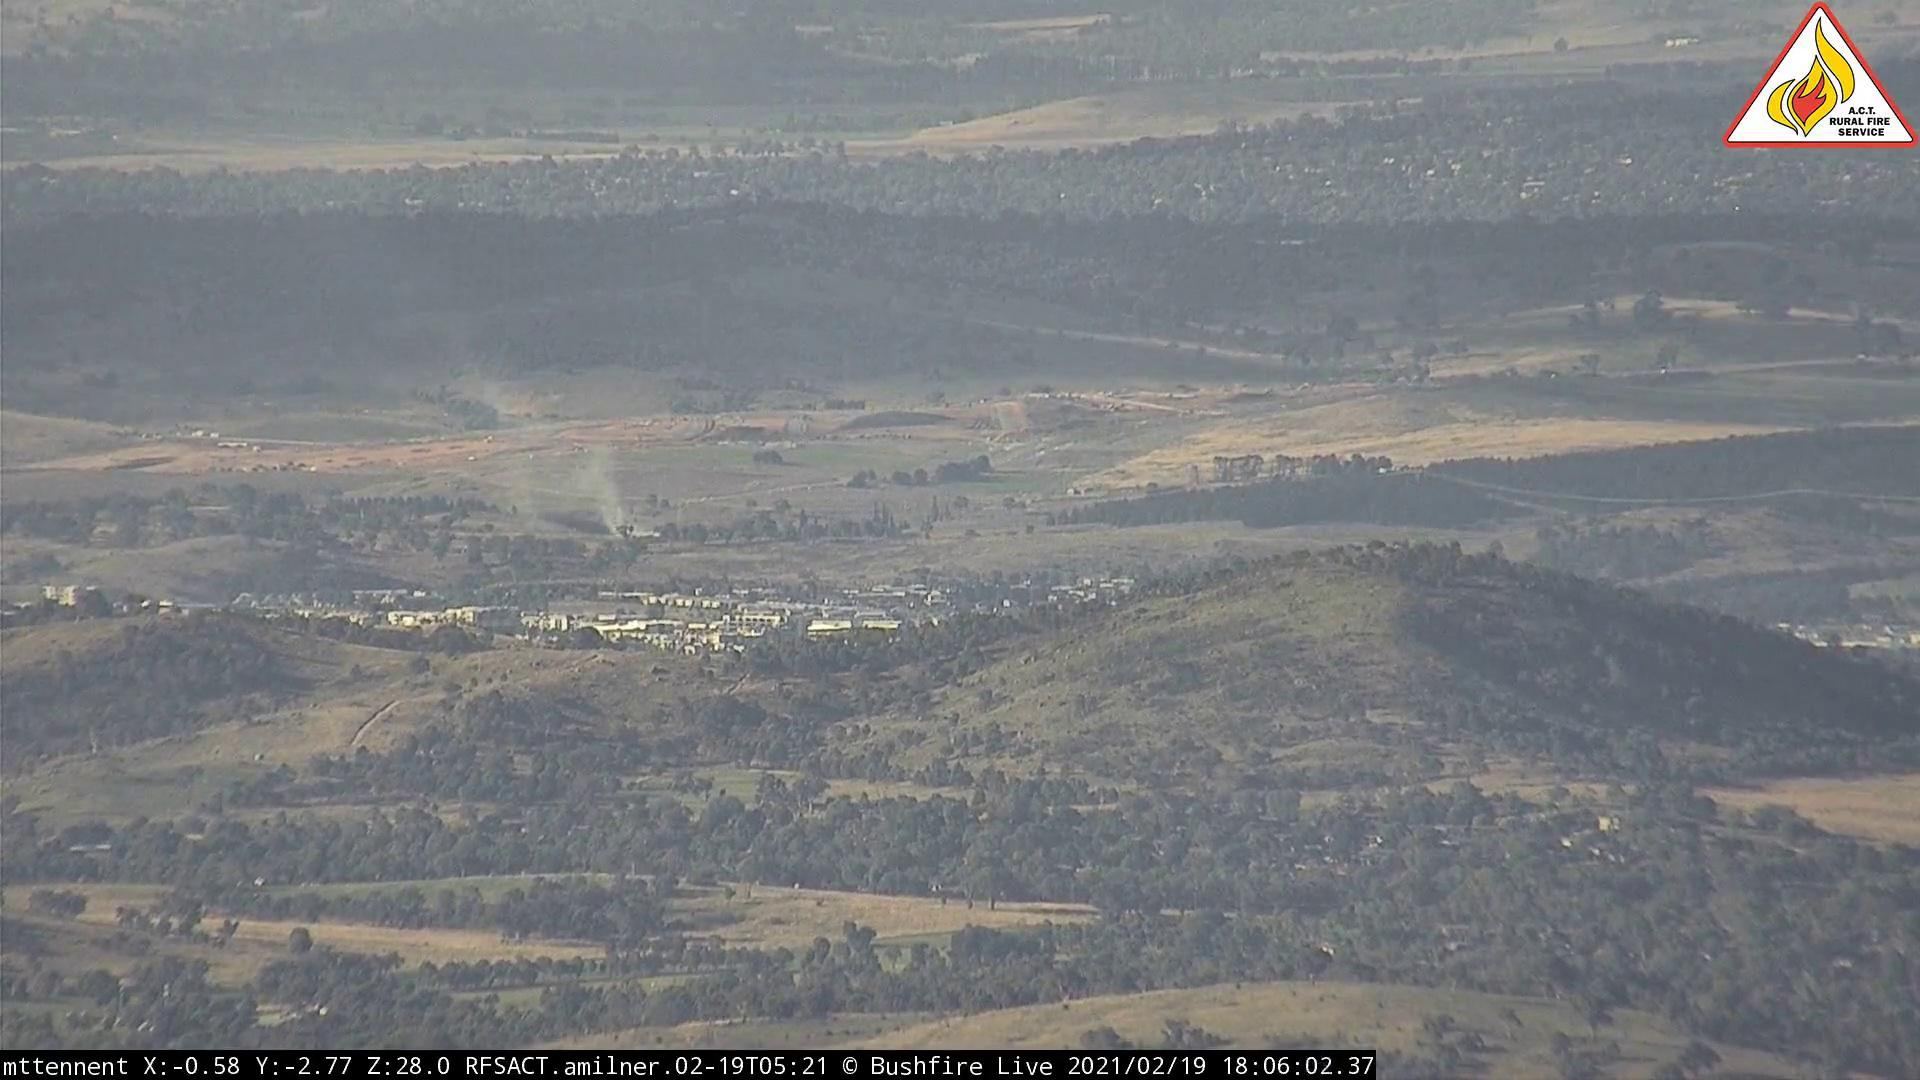Smoke: (545, 450, 698, 545)
